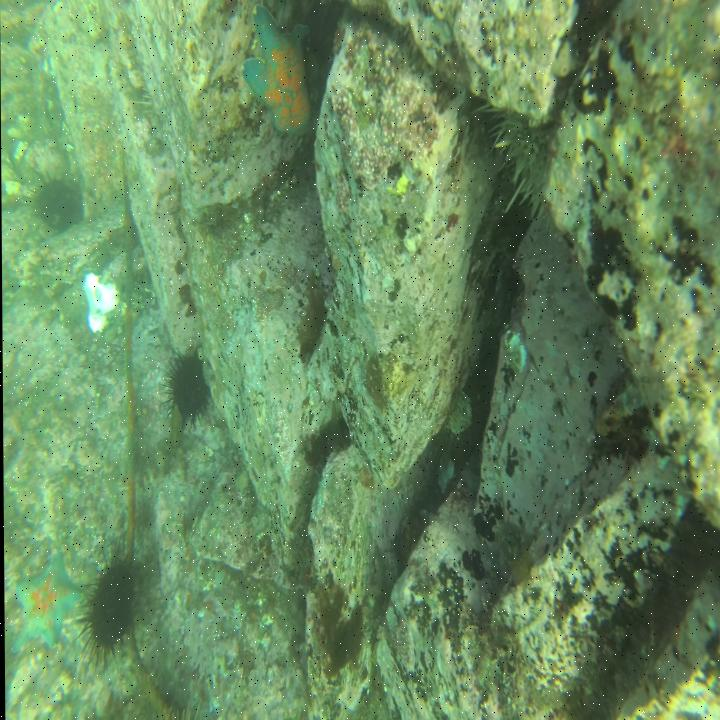echinus: (479, 92, 574, 243), (80, 546, 140, 664), (162, 343, 214, 423), (26, 168, 84, 238)
starfish: (238, 2, 319, 142), (13, 553, 82, 659)
